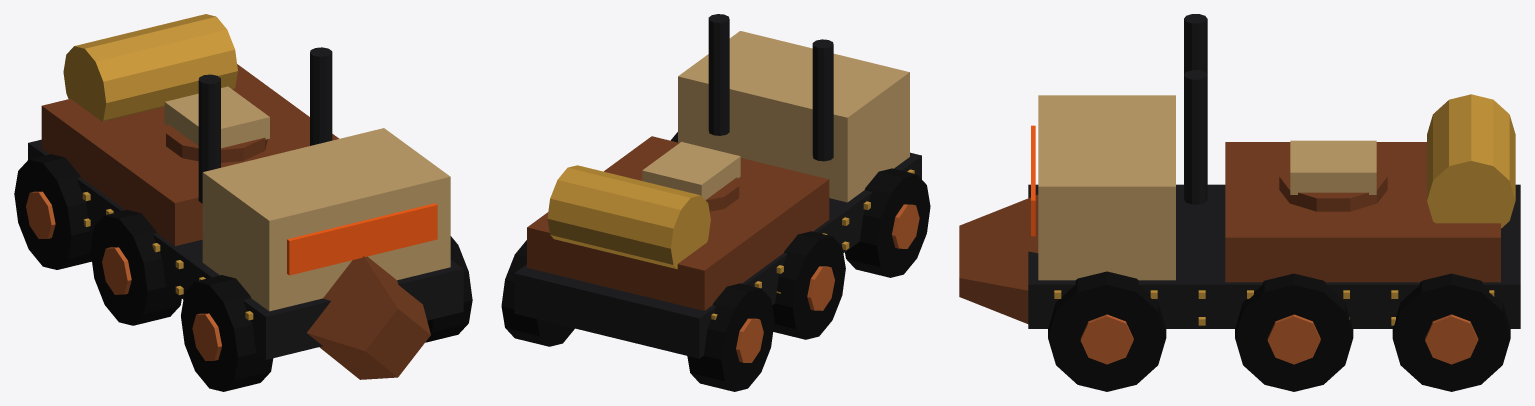
Rendered from raider_harpoon_rig.obj.
3 views of the same model, side by side, from view 1: azimuth 30°, elevation 25°; view 2: azimuth 150°, elevation 25°; view 3: azimuth 270°, elevation 25° (orthographic). The views are drawn at different scales.
Visible parts, largest first — view 1: chassis, wheel_fl, wheel_ml, wheel_rl, turret_base, wheel_fr; view 2: chassis, wheel_fl, wheel_rl, wheel_ml, turret_base, wheel_rr; view 3: chassis, wheel_fr, wheel_rr, wheel_mr, turret_base.
Boxes of the visible parts, x1,y1,x2,y2 form: chassis: (28,14,463,379); wheel_fl: (181,275,273,391); wheel_ml: (90,210,181,325); wheel_rl: (14,154,92,269); turret_base: (164,86,269,162); wheel_fr: (425,236,472,342); chassis: (514,14,921,358); wheel_fl: (845,168,930,277); wheel_rl: (687,283,774,391); wheel_ml: (772,231,845,339); turret_base: (642,142,740,211); wheel_rr: (501,240,574,346); chassis: (959,14,1520,328); wheel_fr: (1048,271,1166,391); wheel_rr: (1392,273,1510,391); wheel_mr: (1235,273,1353,391); turret_base: (1279,140,1387,211).
Bounding box in the file's own units: 2.95 × 3.1 × 5.7.
